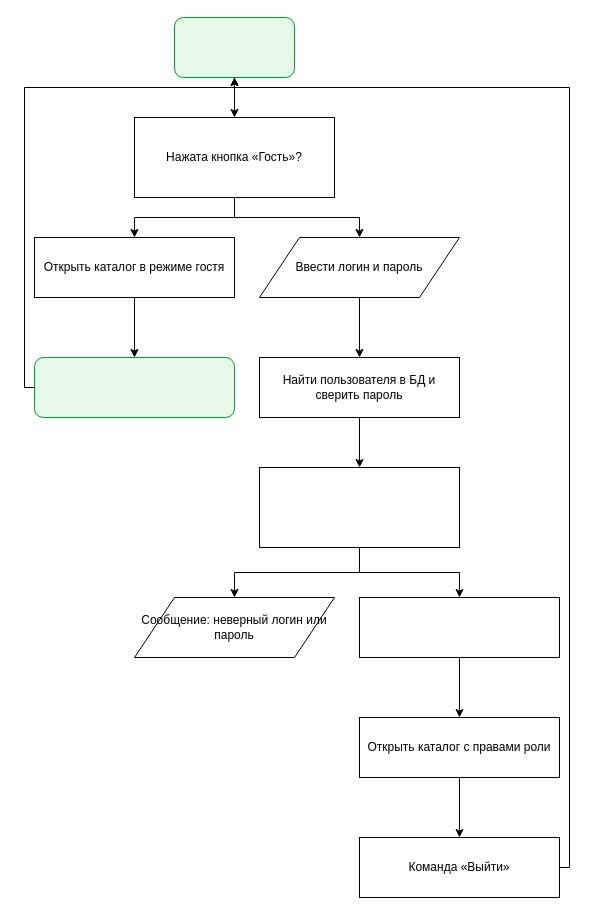
Image size: 595x915. Some labels were removed from this diagram. Here are the shapes that lost their labels. From the top down, the box of each, then its label:
(174, 16, 294, 78): Окно входа
(34, 356, 234, 418): Конец гостевого сеанса
(258, 466, 460, 548): Данные верны?
(358, 596, 560, 658): Определить роль и ФИО
